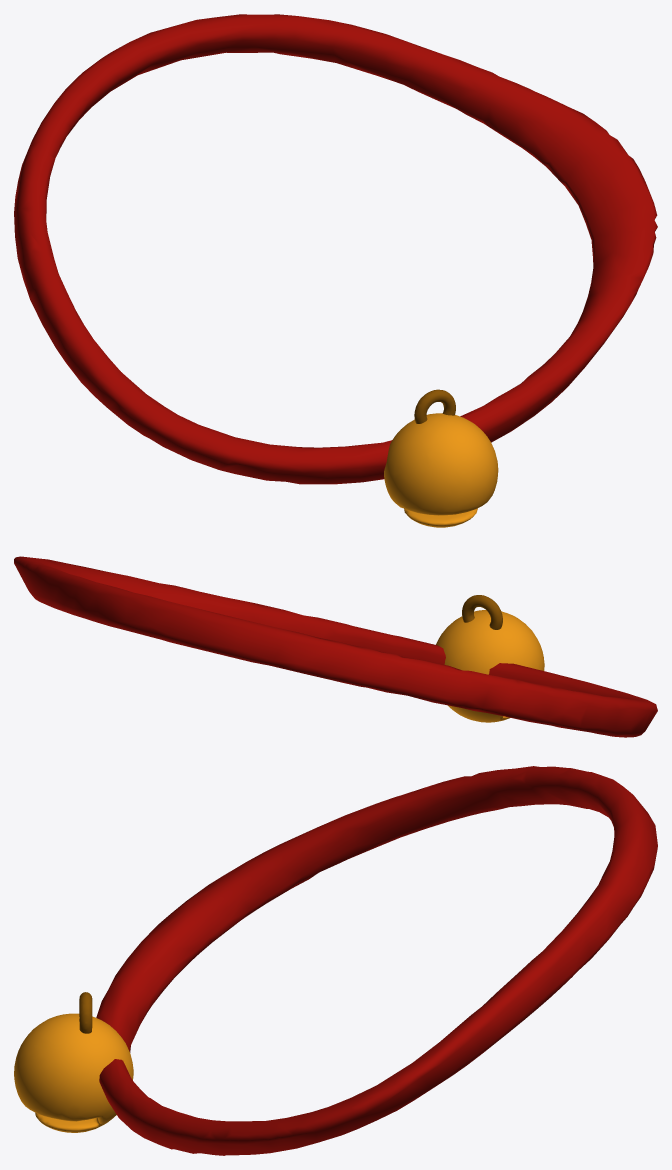
Rendered from chuong.glb.
The picture shows the model from 3 angles, top to bottom: view 1: azimuth 30°, elevation 25°; view 2: azimuth 150°, elevation 25°; view 3: azimuth 270°, elevation 25°; orthographic projection. The views are drawn at different scales.
Parts seen in each view (by area): view 1: Vong_Co, Chuong, Moc; view 2: Vong_Co, Chuong, Moc; view 3: Vong_Co, Chuong.
Boxes of the visible parts, <box> form: Vong_Co: <box>14,14,657,484</box>; Chuong: <box>384,413,498,527</box>; Moc: <box>414,389,455,423</box>; Vong_Co: <box>14,556,657,737</box>; Chuong: <box>436,610,544,722</box>; Moc: <box>462,595,502,629</box>; Vong_Co: <box>96,766,657,1155</box>; Chuong: <box>14,1013,133,1132</box>.
Size of the model in its own units: 0.2377 by 0.1146 by 0.2152.
